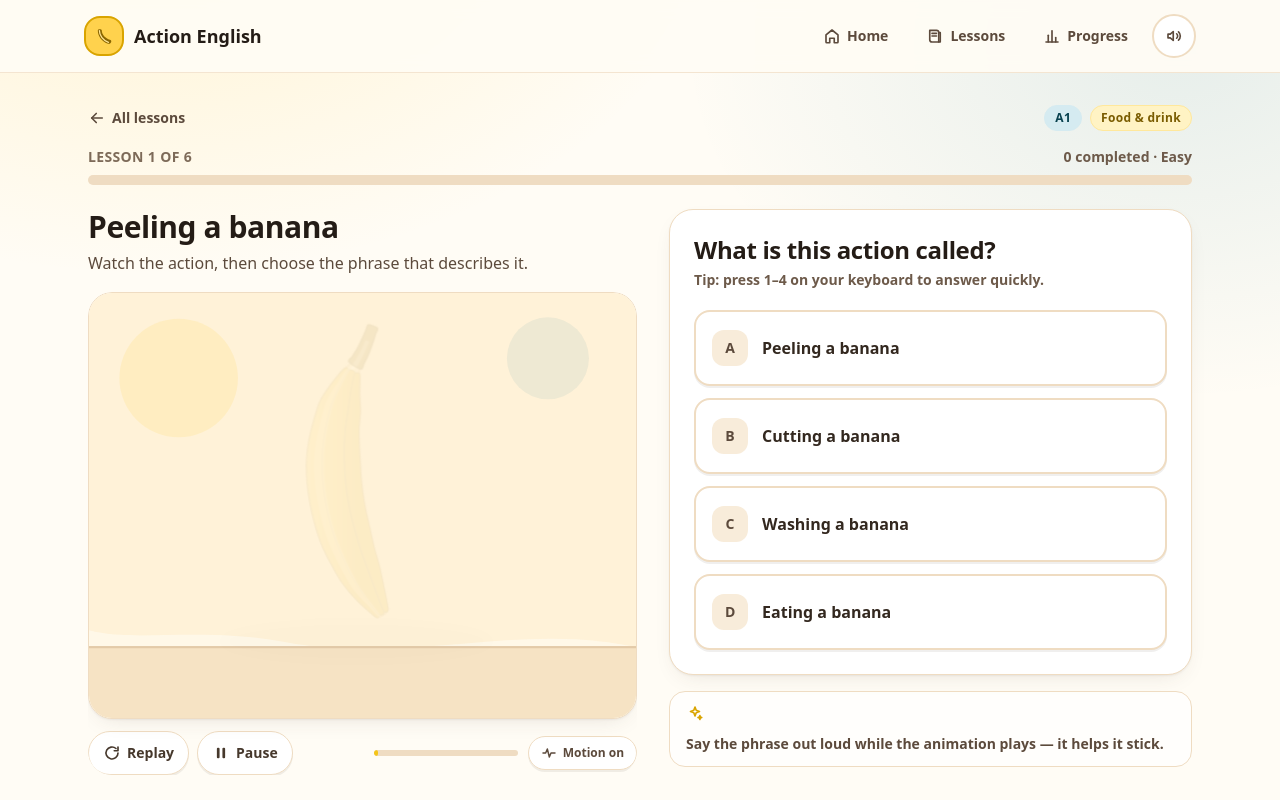
Test case: lesson player › explains a wrong answer and lets the learner try again
Click the button "B Cutting a banana": (730, 436) [694,398,1167,474]
(page scrolled)
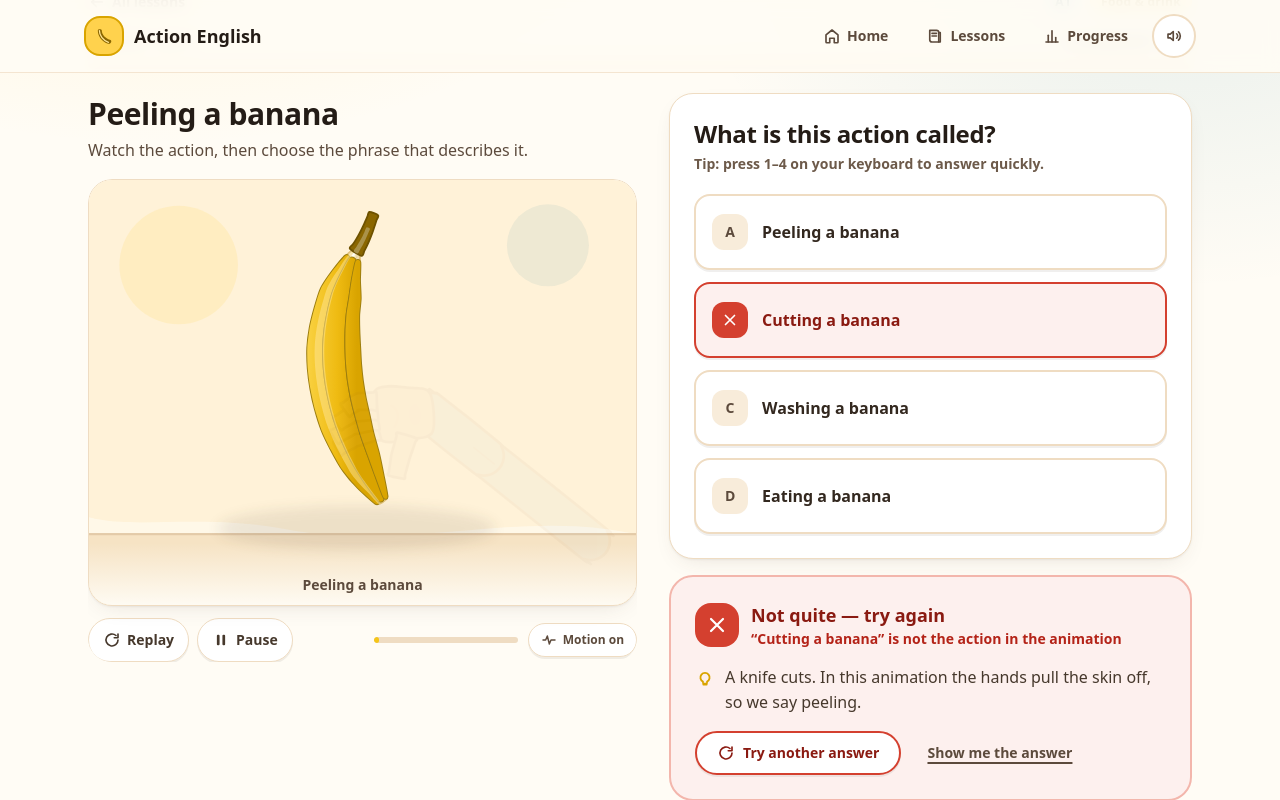
Expected: the text "that’s right" is not shown
Expected: the text "Not quite — try again" is shown, [751,603,945,627]
Expected: the text "A knife cuts" is shown, [725,666,1151,713]
Click the button "Try another answer": (798, 753) [695,731,902,775]
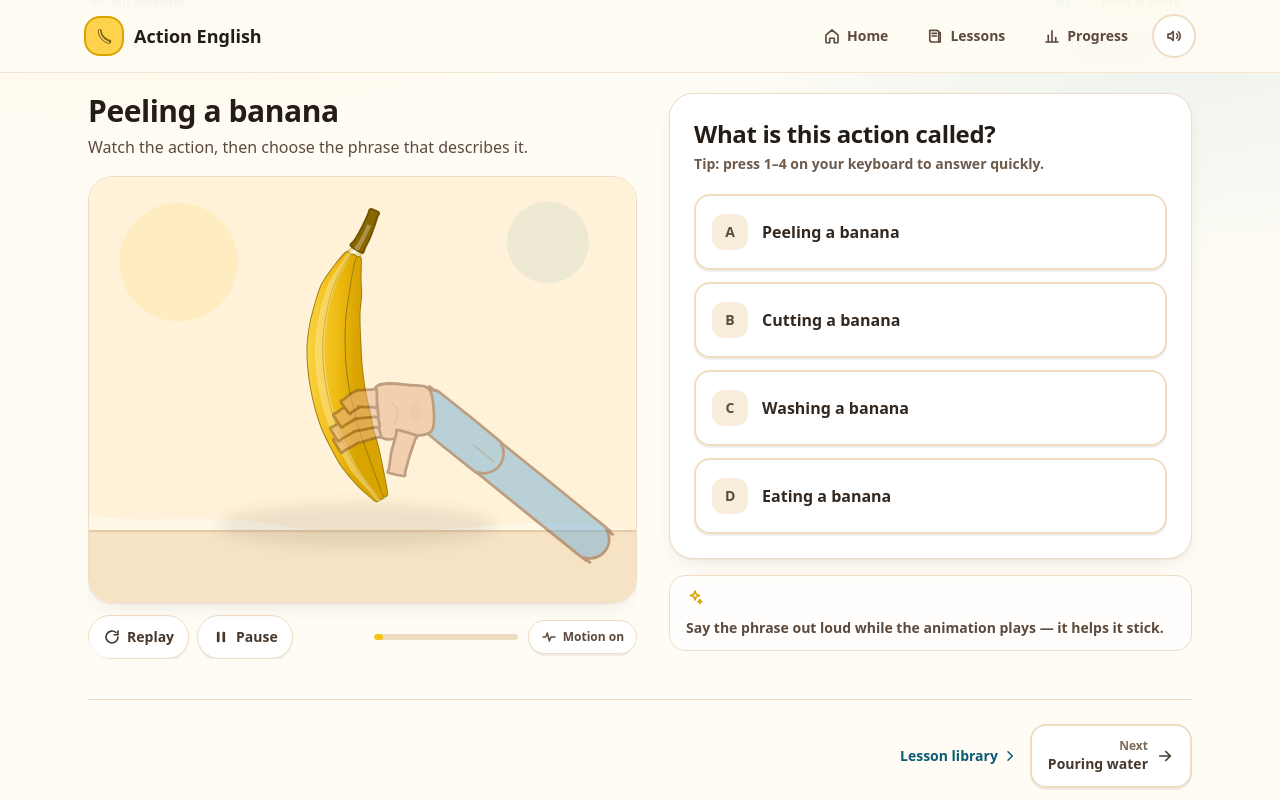
Click the button "A Peeling a banana": (730, 232) [694,194,1167,270]
(page scrolled)
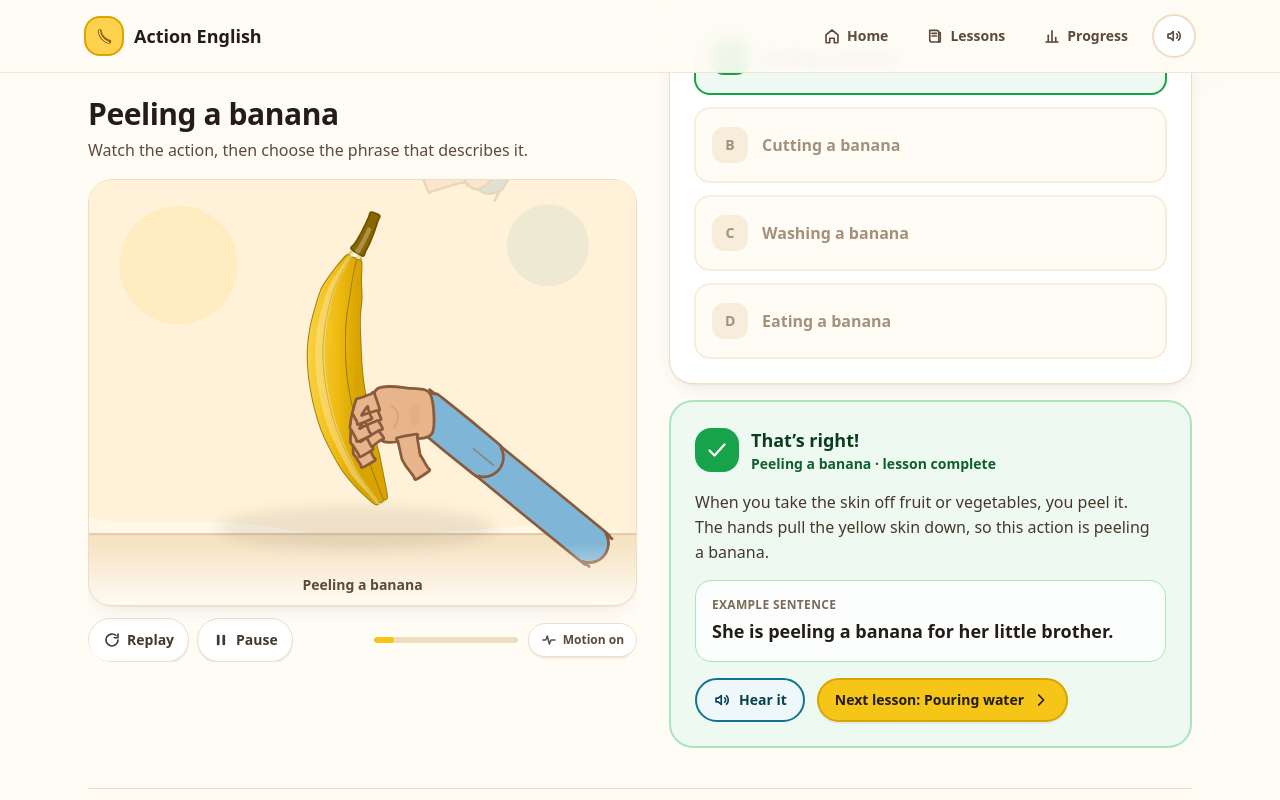
Expected: the text "That’s right!" is shown, [751,428,859,452]
Expected: the text "She is peeling a banana for her little brother." is shown, [712,617,1149,645]
Expected: the text "When you take the skin off fruit or vegetables, you peel it. The hands pull the yellow skin down, so this action is peel" is shown, [695,491,1150,563]
